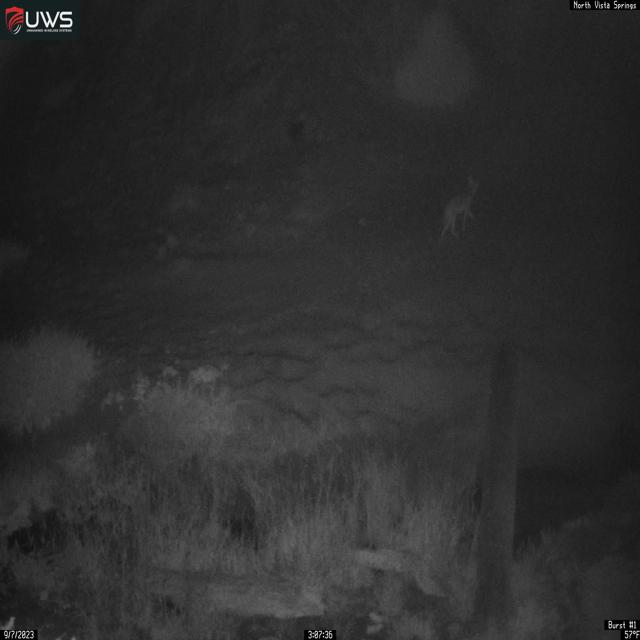coyote: (439, 174, 481, 242)
